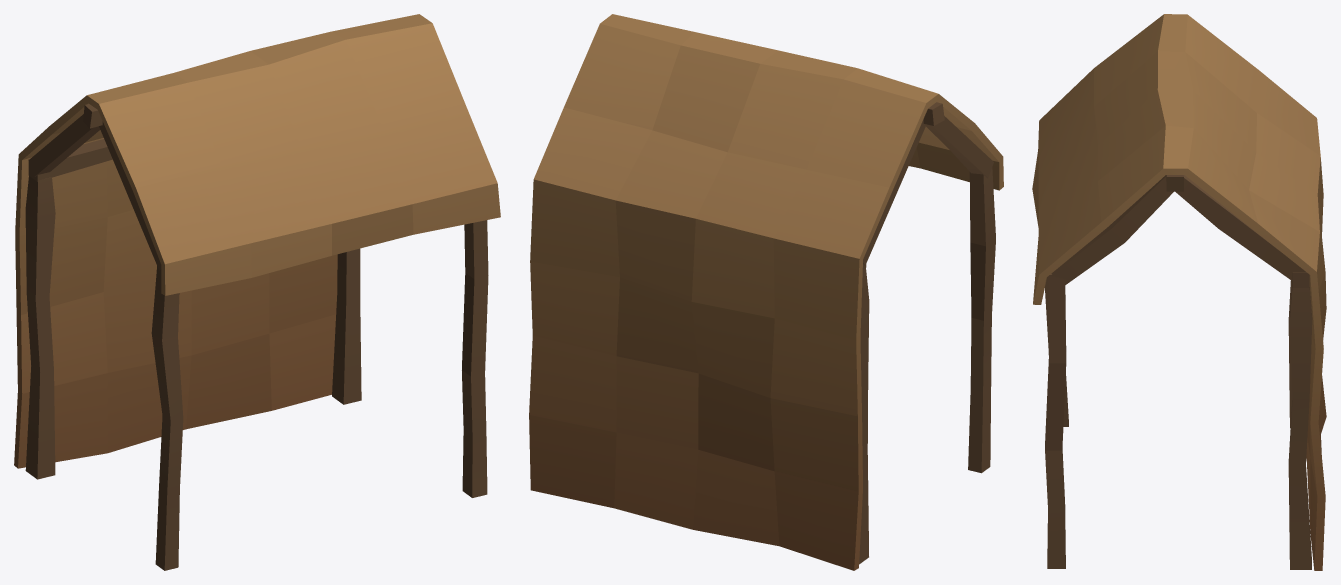
Rendered from Tent_1.fbx.
3 renders of one model, left to right at view 1: azimuth 30°, elevation 25°; view 2: azimuth 150°, elevation 25°; view 3: azimuth 270°, elevation 25°, orthographic. The views are drawn at different scales.
Visible parts, largest first — view 1: Tent_1; view 2: Tent_1; view 3: Tent_1.
Boxes of the visible parts, left/top/right/bottom form: Tent_1: left=14, top=14, right=500, bottom=570; Tent_1: left=529, top=14, right=1003, bottom=570; Tent_1: left=1032, top=14, right=1326, bottom=570.
Bounding box in the file's own units: 201 × 239 × 157.
